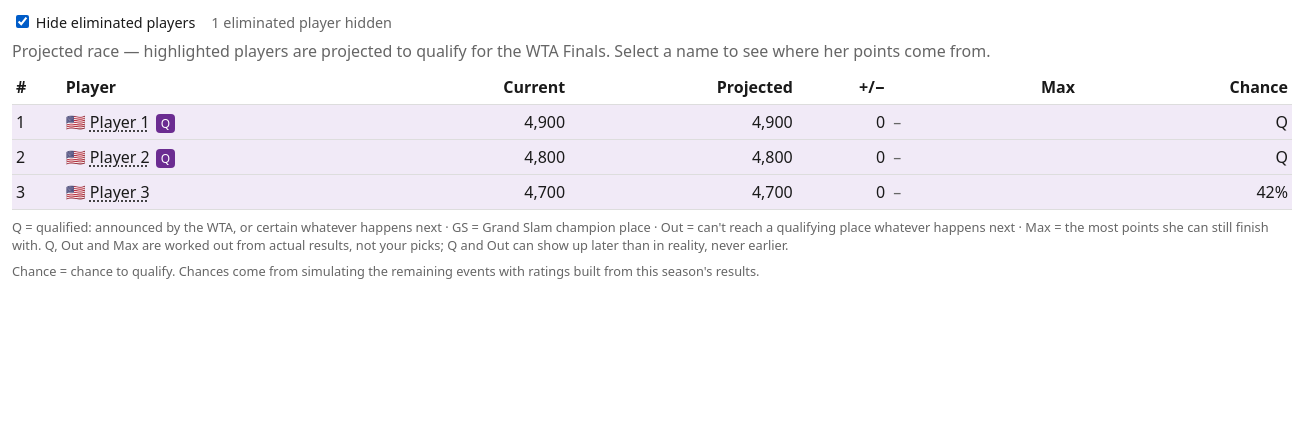
Test case: chances › shows Q for qualified or clinched, — for eliminated, the percent otherwise, and a line in the expanded row
Click the checkbox labelled "Hide eliminated players" at (22, 22), box left=16, top=15, right=29, bottom=28
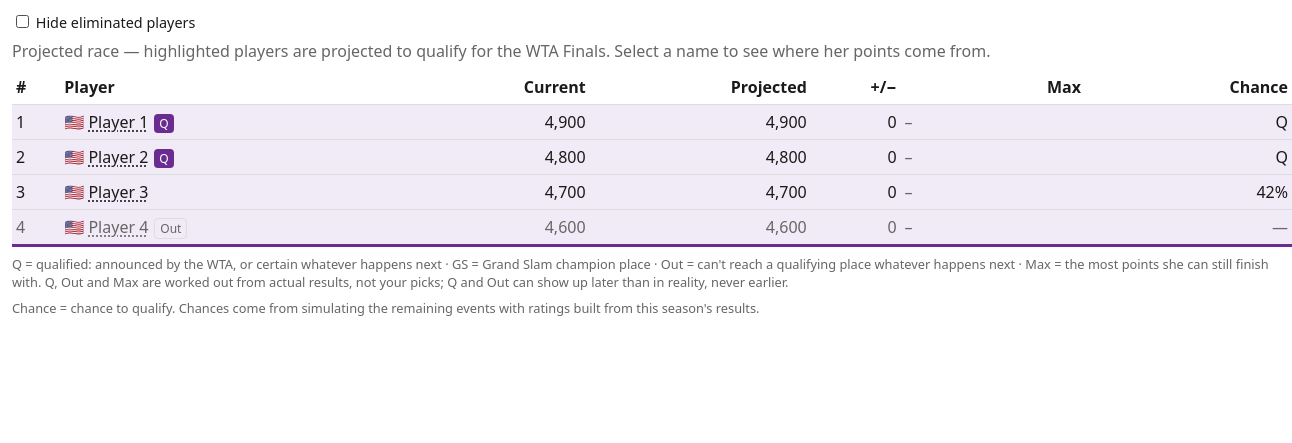
Expected: the 1st cell with test id "chance" reads "Q", left=1276, top=111, right=1288, bottom=133
Expected: the 2nd cell with test id "chance" reads "Q", left=1276, top=146, right=1288, bottom=168
Click the button "Player 3" at (118, 192), box left=88, top=181, right=148, bottom=203
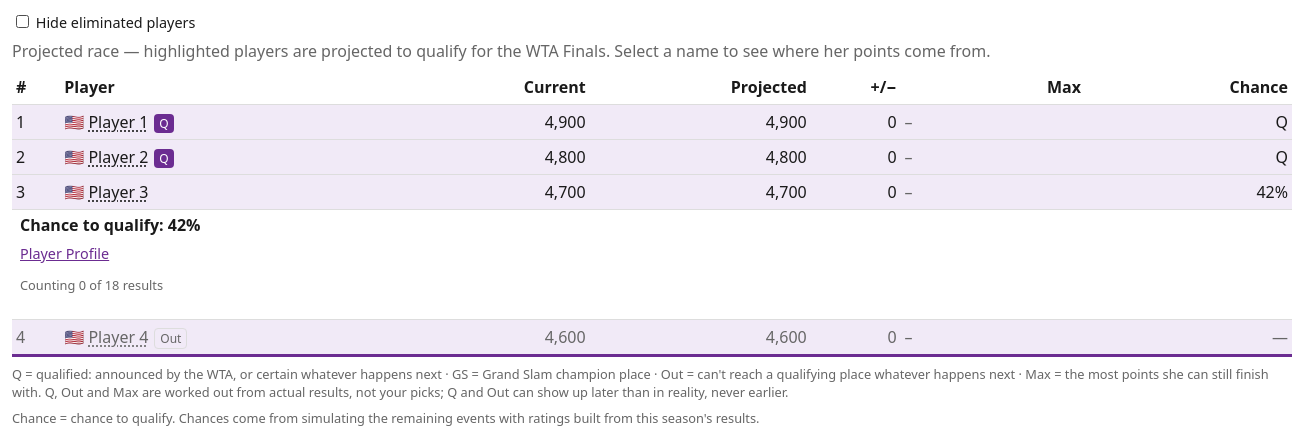
Expected: the text "Chances come from simulating the remaining events with ratings built from this season's results." is shown, left=12, top=409, right=760, bottom=427
Expected: the text "Chance to qualify: 42%" is shown, left=20, top=214, right=200, bottom=236
